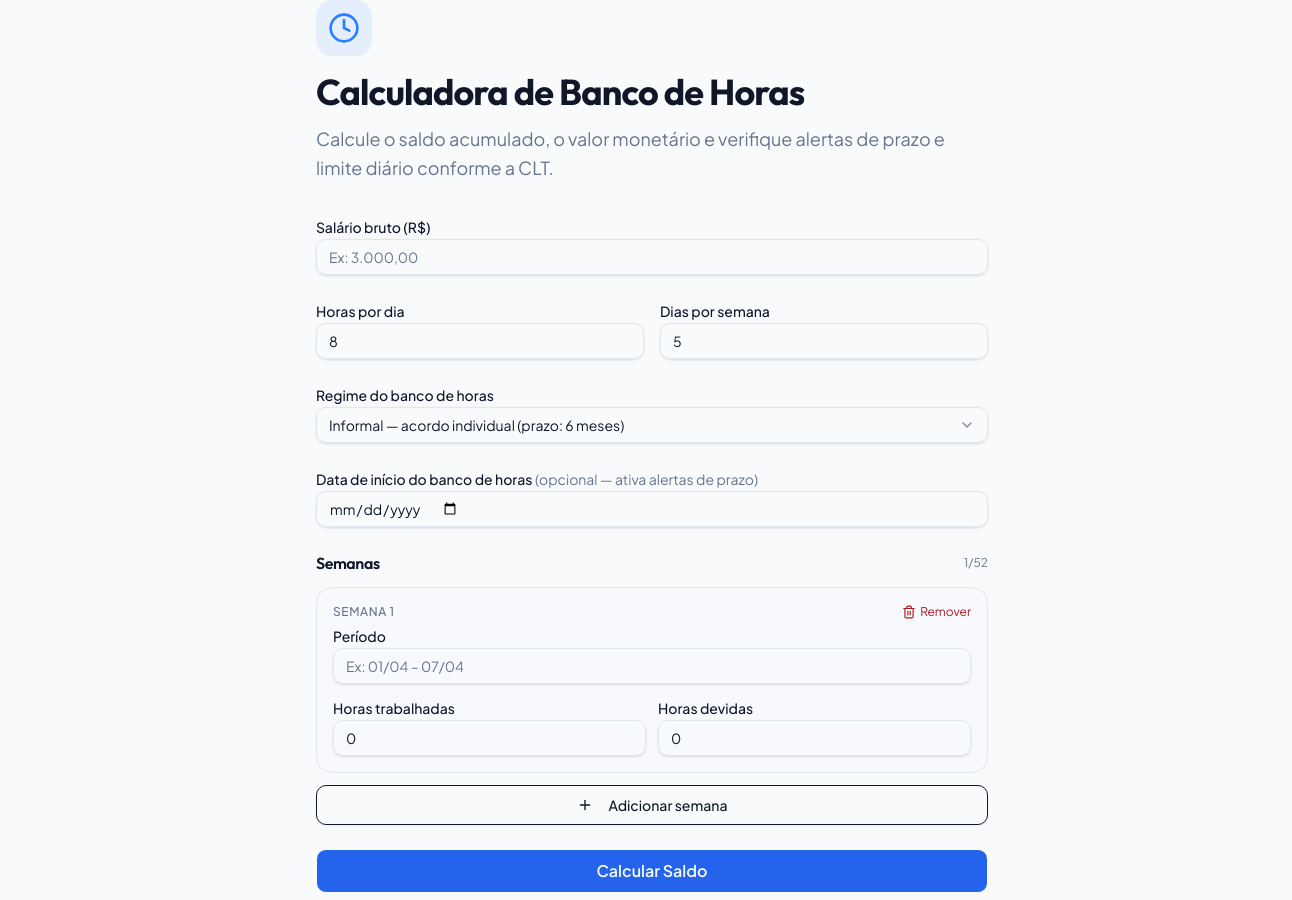
BancoDeHorasPage — resultado completo (Task 4.3) › exibe fórmula de cálculo do valor hora após submissão
Type "3000" into the field labelled "Salário bruto (R$)" at (652, 256), box [316, 238, 988, 274]
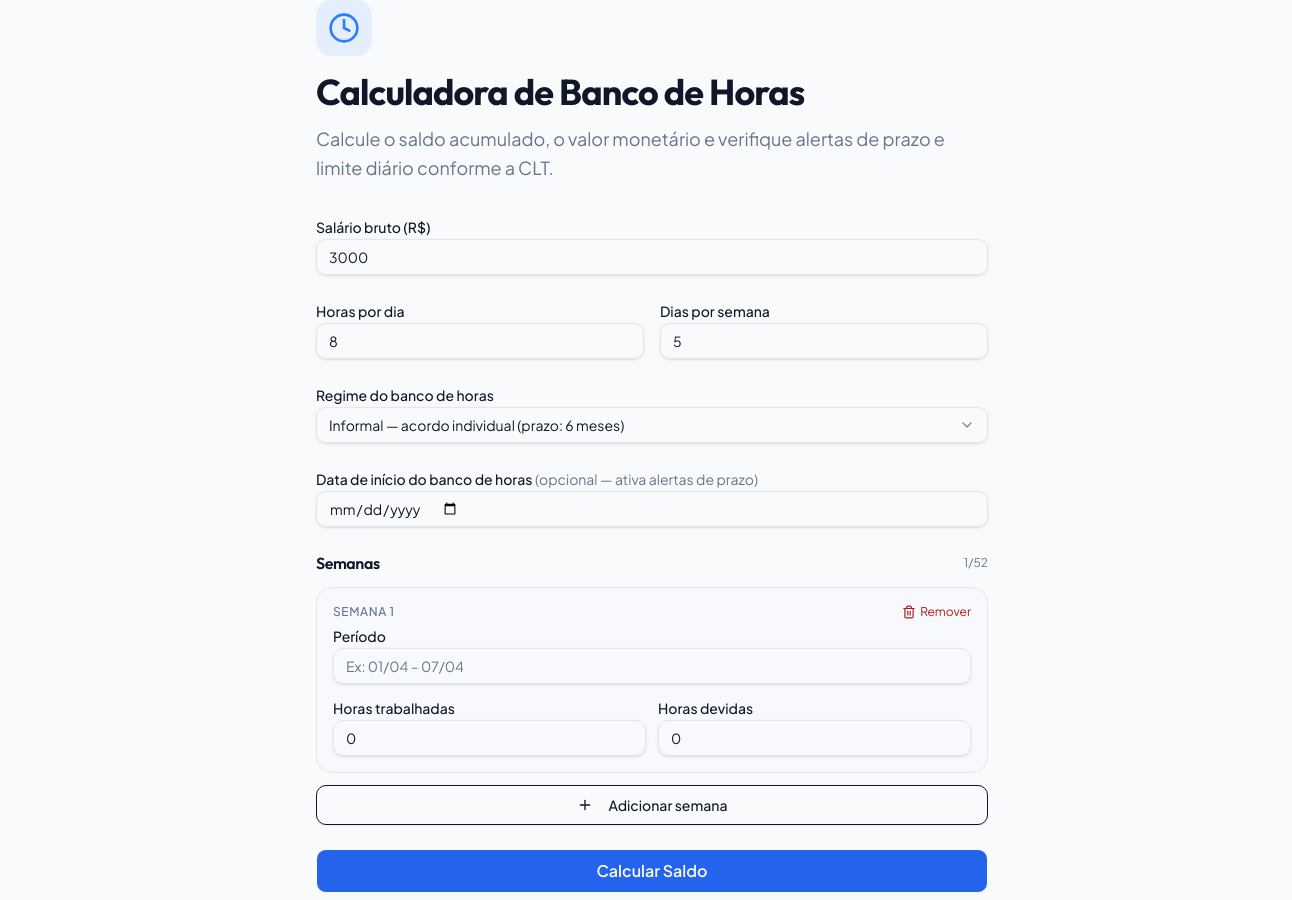
Type "01/04 – 07/04" into the field labelled "Período" at (652, 666), box [333, 648, 971, 684]
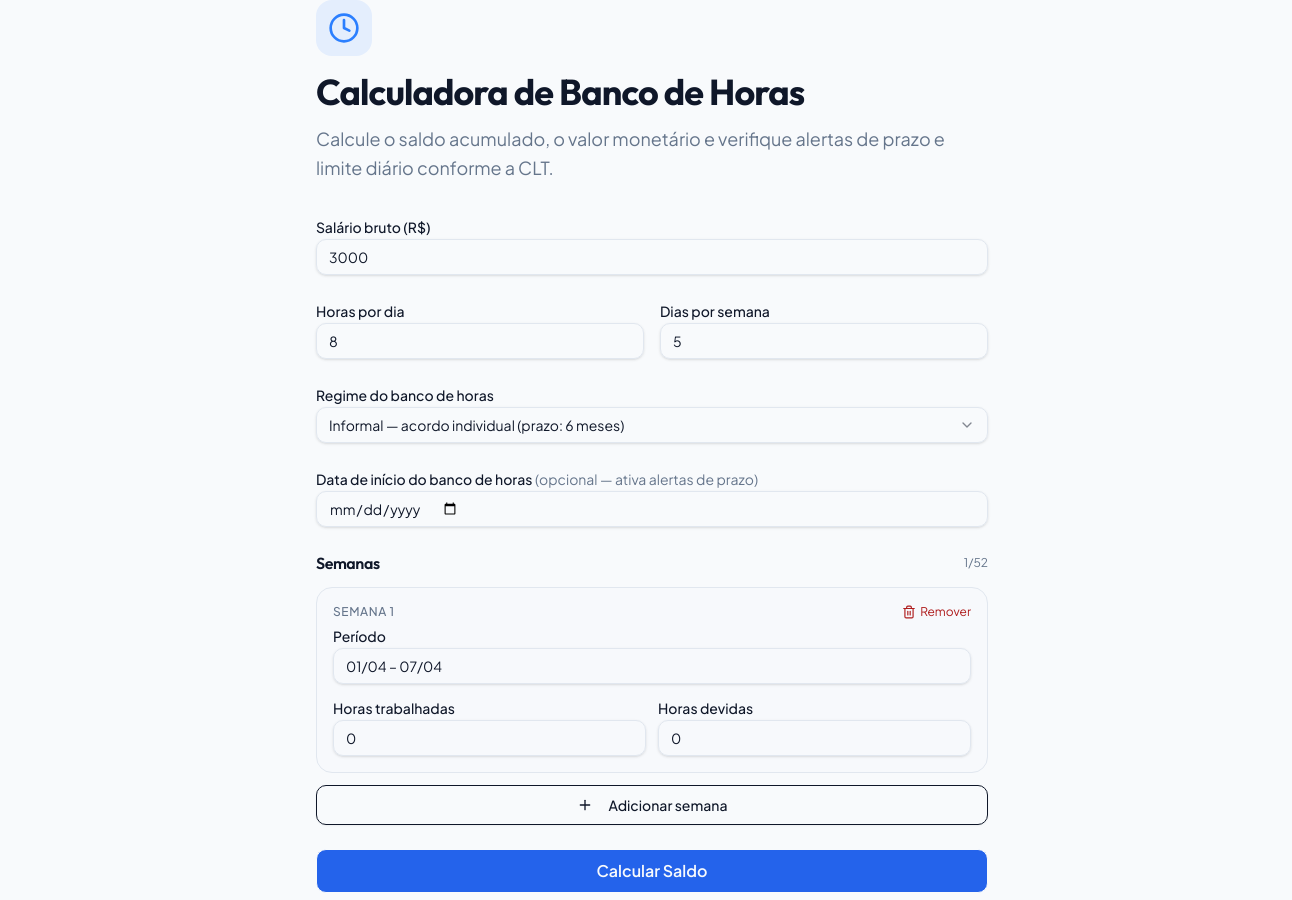
Replace the text in the number field labelled "Horas trabalhadas" with "45" at (490, 738), box [333, 720, 646, 756]
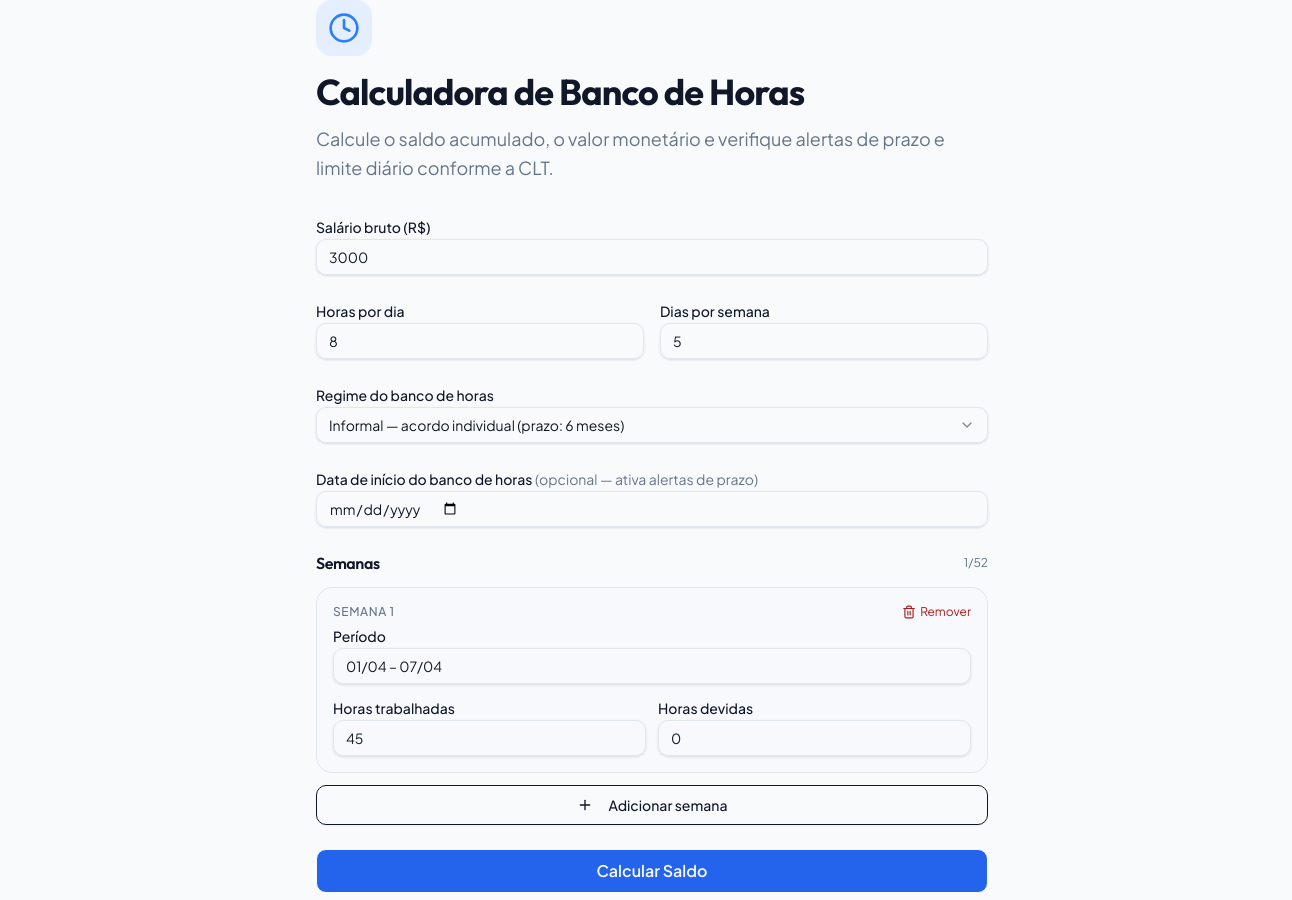
Replace the text in the number field labelled "Horas devidas" with "40" at (814, 738), box [658, 720, 971, 756]
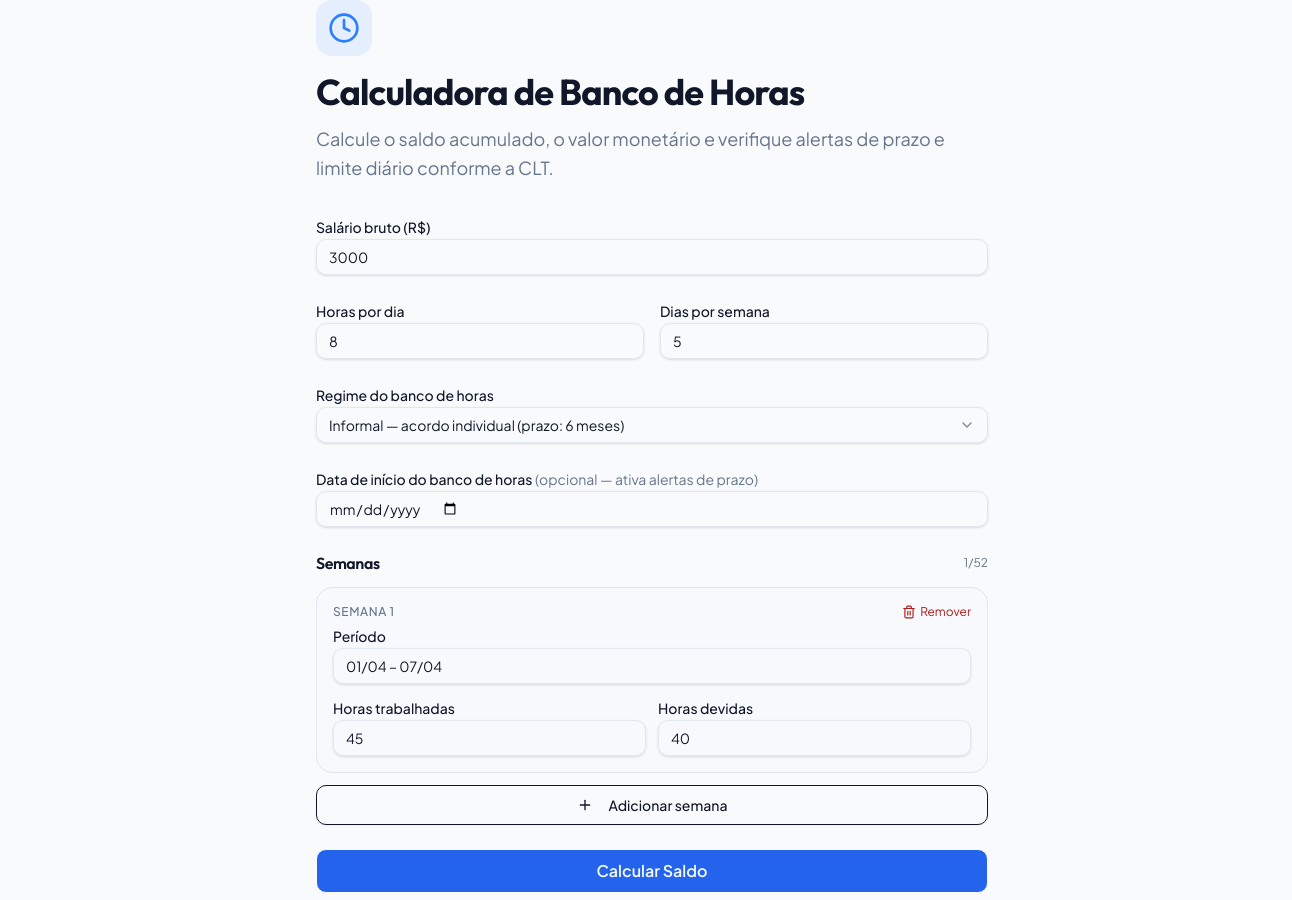
Click the button "Calcular Saldo" at (652, 870), box [316, 848, 988, 892]
(page scrolled)
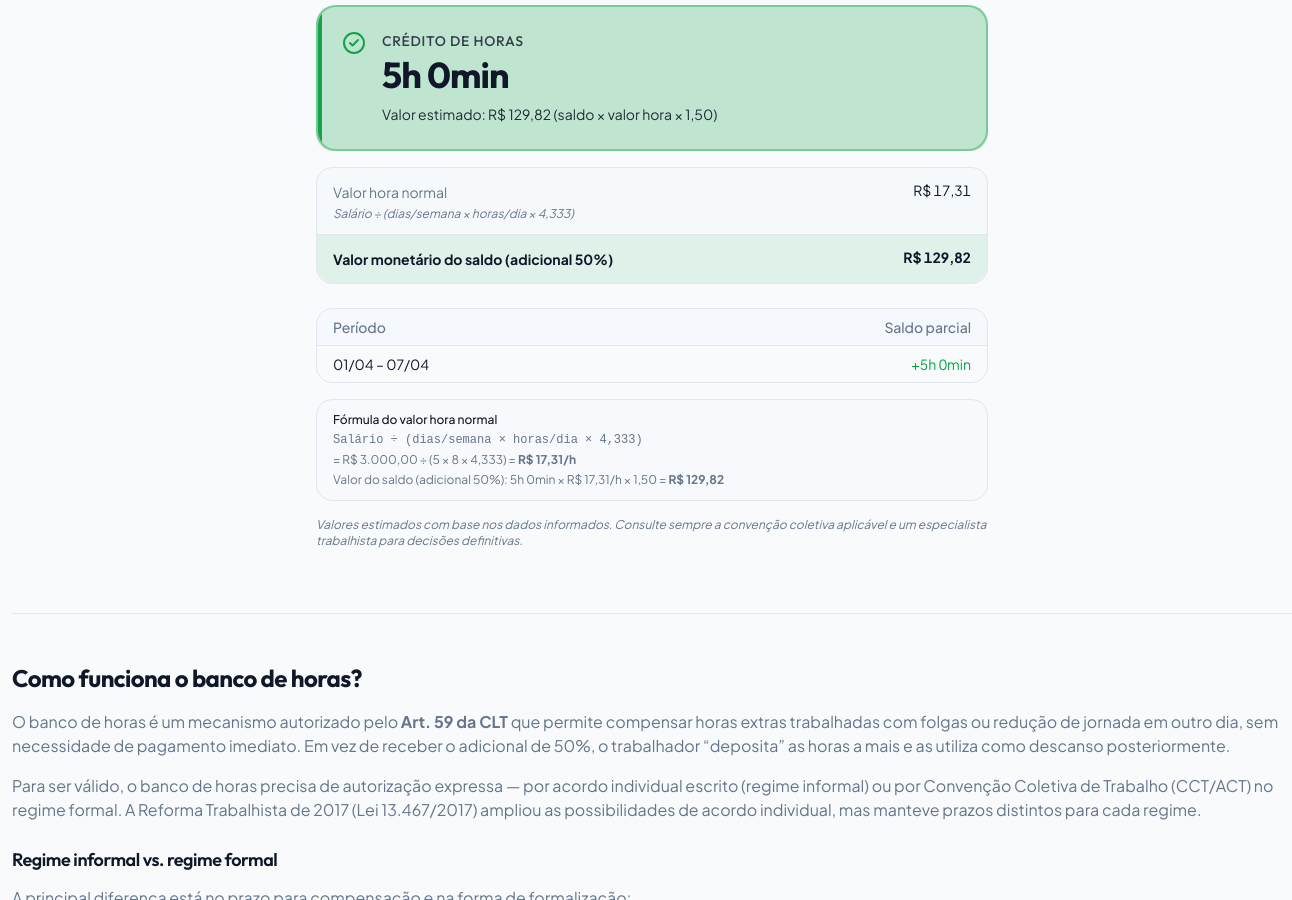
Now the element with test id "formula-valor-hora" is shown, box [316, 399, 988, 501]
